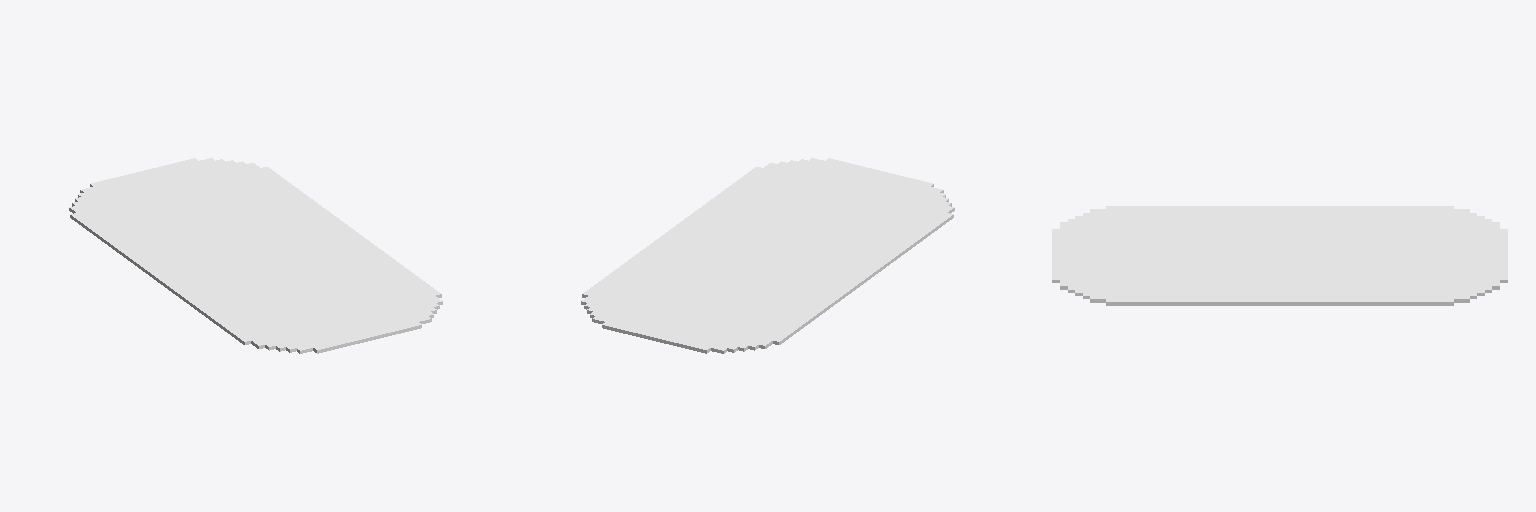
The model's file is Rug_02.obj.
The picture shows the model from 3 angles: view 1: azimuth 30°, elevation 25°; view 2: azimuth 150°, elevation 25°; view 3: azimuth 270°, elevation 25°; orthographic projection.
Visible parts, largest first — view 1: Rug_02; view 2: Rug_02; view 3: Rug_02.
Boxes of the visible parts, <box> form: Rug_02: <box>69,158,442,353</box>; Rug_02: <box>581,158,954,353</box>; Rug_02: <box>1052,206,1507,305</box>.
Size of the model in its own units: 60 by 1 by 120.